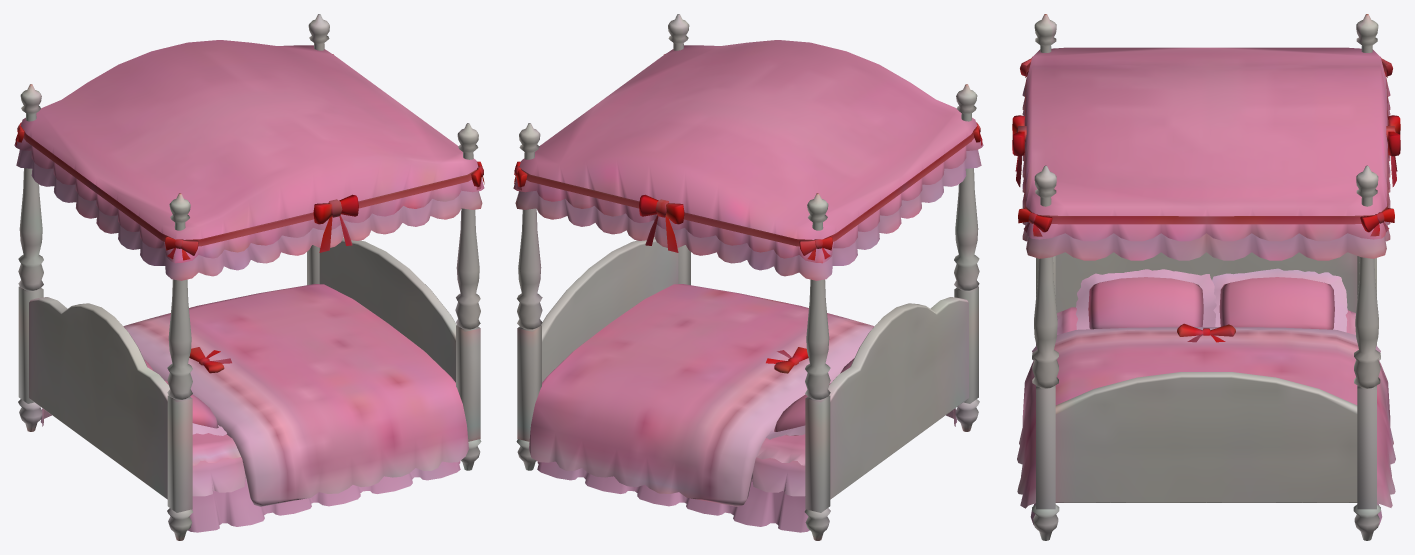
The picture shows the model from 3 angles, left to right: view 1: azimuth 30°, elevation 25°; view 2: azimuth 150°, elevation 25°; view 3: azimuth 270°, elevation 25°; orthographic projection. The views are drawn at different scales.
Size of the model in its own units: 19.97 by 20.81 by 19.65.
1 material, 1 textured.
